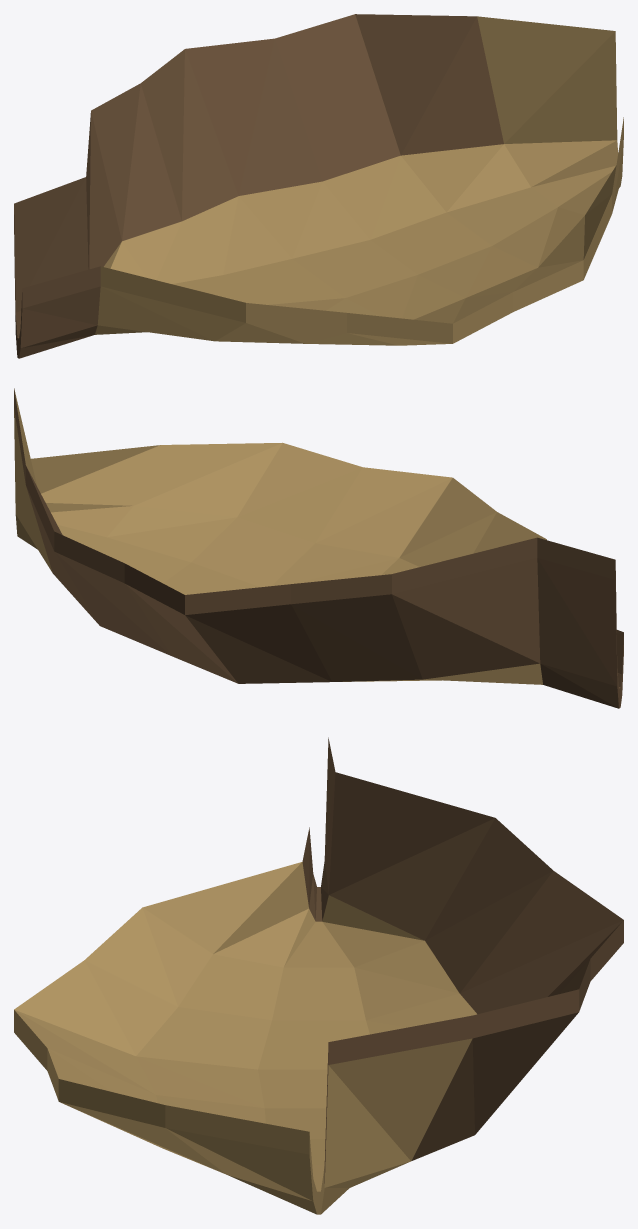
File: dry_leaf_curl.glb
3 renders of one model, top to bottom at view 1: azimuth 30°, elevation 25°; view 2: azimuth 150°, elevation 25°; view 3: azimuth 270°, elevation 25°, orthographic. The views are drawn at different scales.
Parts seen in each view (by area): view 1: dry_leaf_curl; view 2: dry_leaf_curl; view 3: dry_leaf_curl.
Boxes of the visible parts, x1,y1,x2,y2 form: dry_leaf_curl: [14, 14, 623, 358]; dry_leaf_curl: [14, 388, 623, 708]; dry_leaf_curl: [14, 737, 623, 1214].
Size of the model in its own units: 0.1 by 0.0303 by 0.0771.
